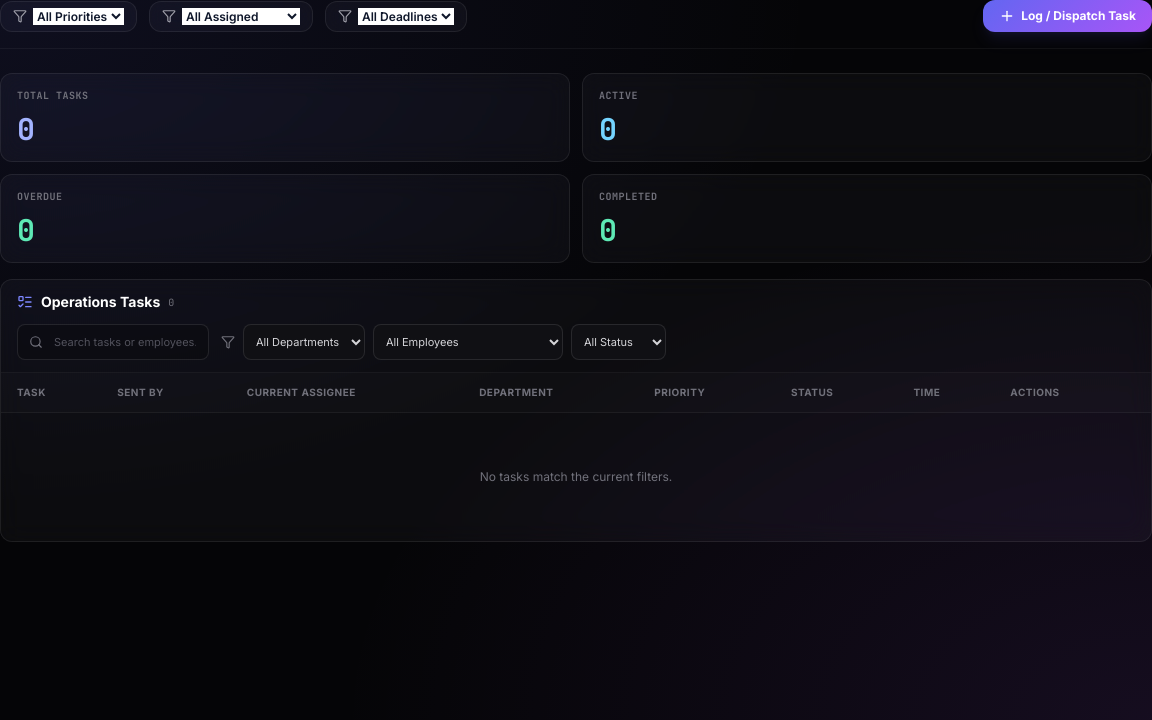
Scenario: TaskBoard — create modal › lists exactly the users the current role may assign to
Click the button "Log / Dispatch Task" at (1068, 16), box [983,0,1151,32]
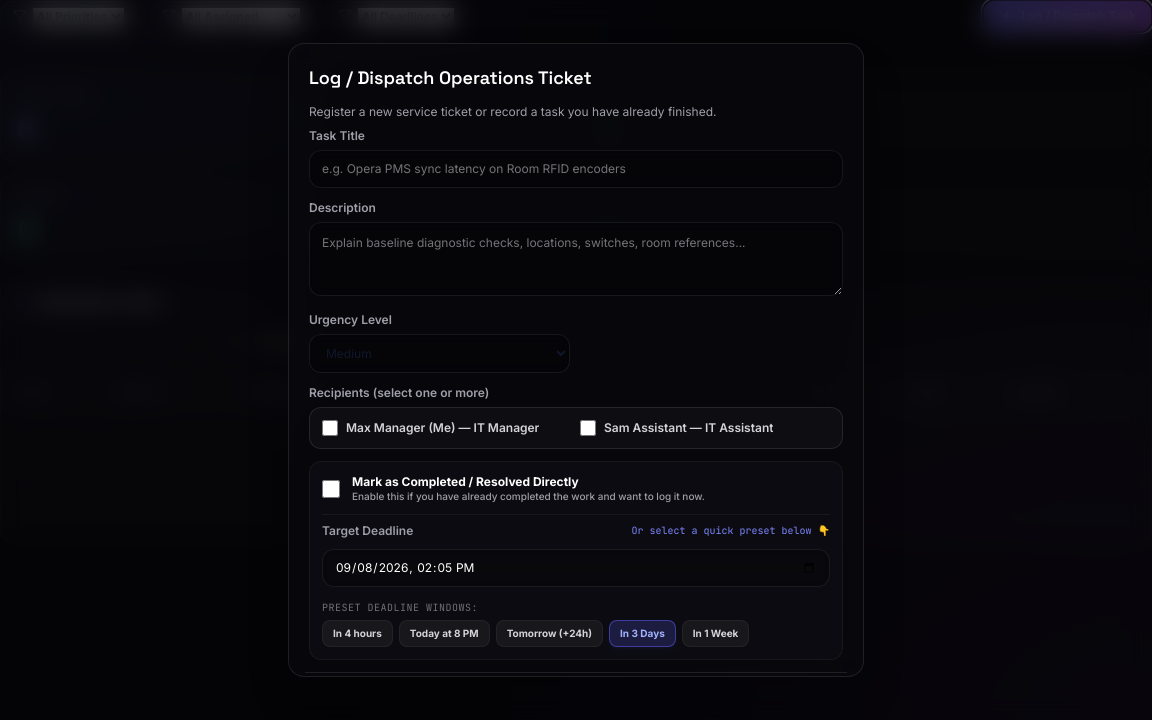
Result: the checkbox labelled "Sam Assistant — IT Assistant" is shown at [580,420,596,436]
